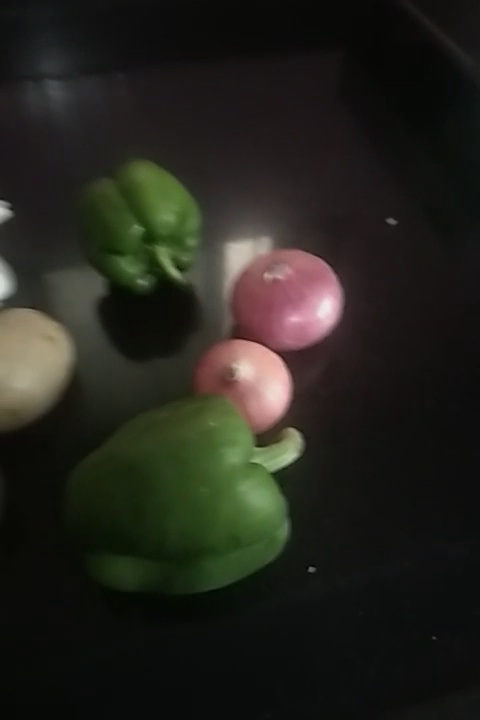capsicum: (59, 397, 321, 589), (72, 157, 203, 300)
onion: (231, 251, 347, 350), (187, 334, 296, 425), (1, 302, 79, 428)
